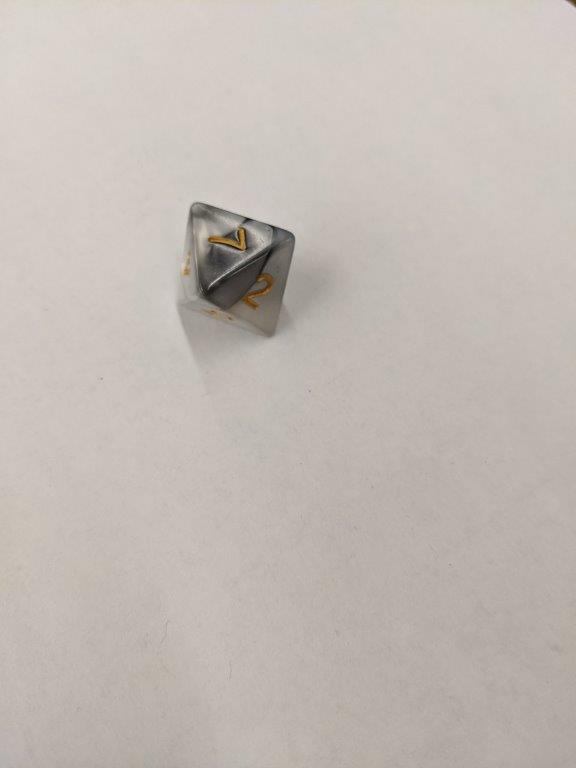d8-7: (171, 200, 297, 345)
